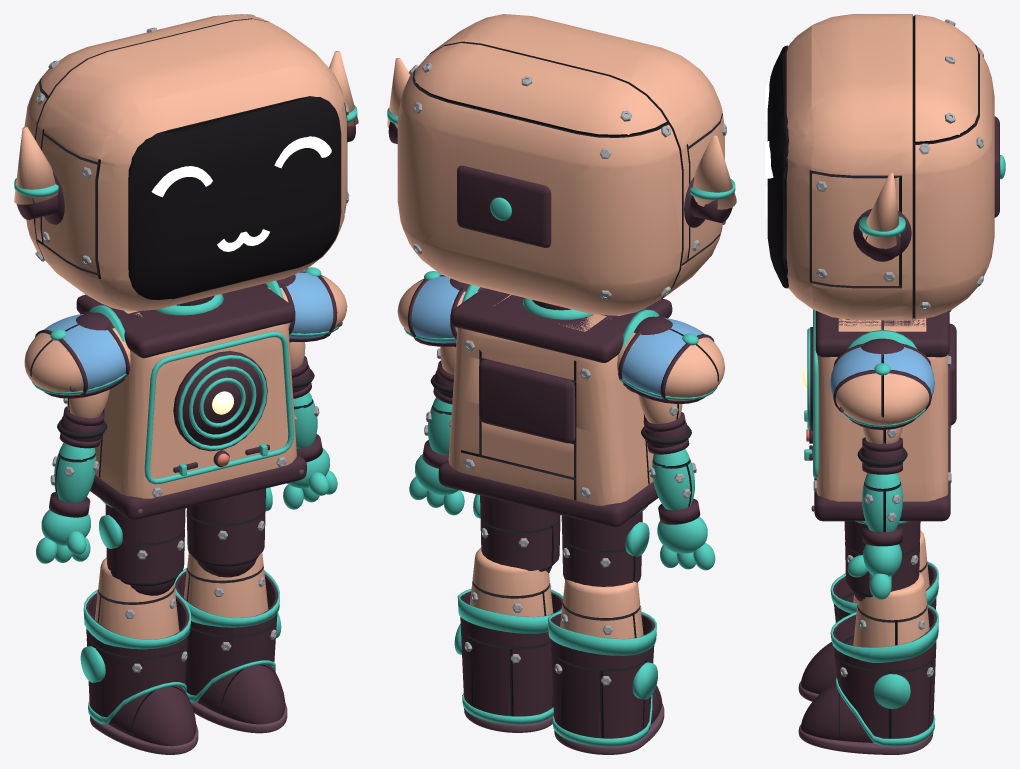
The model's file is peachy.glb.
3 renders of one model, left to right at view 1: azimuth 30°, elevation 25°; view 2: azimuth 150°, elevation 25°; view 3: azimuth 270°, elevation 25°, orthographic.
Visible parts, largest first — view 1: BITTY_Head_surface, BITTY_Torso_surface, BITTY_Ankle0_surface, BITTY_Ankle1_surface, BITTY_Leg0_surface, BITTY_Leg1_surface, BITTY_Elbow0_surface, BITTY_Knee0_surface, BITTY_Knee1_surface, BITTY_Elbow1_surface, BITTY_Arm0_surface, BITTY_Arm1_surface; view 2: BITTY_Head_surface, BITTY_Torso_surface, BITTY_Ankle0_surface, BITTY_Ankle1_surface, BITTY_Elbow0_surface, BITTY_Leg0_surface, BITTY_Leg1_surface, BITTY_Knee0_surface, BITTY_Knee1_surface, BITTY_Elbow1_surface, BITTY_Arm0_surface, BITTY_Arm1_surface; view 3: BITTY_Head_surface, BITTY_Torso_surface, BITTY_Ankle1_surface, BITTY_Elbow1_surface, BITTY_Knee1_surface, BITTY_Ankle0_surface, BITTY_Leg1_surface, BITTY_Arm1_surface, BITTY_Knee0_surface.
Boxes of the visible parts, x1=… form: BITTY_Head_surface: x1=14, y1=14, x2=358, y2=311; BITTY_Torso_surface: x1=24, y1=267, x2=347, y2=520; BITTY_Ankle0_surface: x1=80, y1=589, x2=198, y2=754; BITTY_Ankle1_surface: x1=174, y1=567, x2=287, y2=733; BITTY_Leg0_surface: x1=99, y1=504, x2=185, y2=595; BITTY_Leg1_surface: x1=186, y1=487, x2=272, y2=577; BITTY_Elbow0_surface: x1=36, y1=433, x2=100, y2=563; BITTY_Knee0_surface: x1=95, y1=557, x2=179, y2=639; BITTY_Knee1_surface: x1=184, y1=552, x2=268, y2=617; BITTY_Elbow1_surface: x1=283, y1=382, x2=337, y2=509; BITTY_Arm0_surface: x1=57, y1=389, x2=109, y2=441; BITTY_Arm1_surface: x1=289, y1=341, x2=314, y2=392; BITTY_Head_surface: x1=387, y1=14, x2=736, y2=315; BITTY_Torso_surface: x1=397, y1=271, x2=724, y2=527; BITTY_Ankle0_surface: x1=548, y1=611, x2=664, y2=754; BITTY_Ankle1_surface: x1=454, y1=588, x2=563, y2=732; BITTY_Elbow0_surface: x1=647, y1=439, x2=715, y2=570; BITTY_Leg0_surface: x1=561, y1=511, x2=649, y2=586; BITTY_Leg1_surface: x1=473, y1=494, x2=560, y2=573; BITTY_Knee0_surface: x1=560, y1=579, x2=643, y2=638; BITTY_Knee1_surface: x1=470, y1=547, x2=553, y2=616; BITTY_Elbow1_surface: x1=409, y1=387, x2=464, y2=515; BITTY_Arm0_surface: x1=638, y1=395, x2=691, y2=447; BITTY_Arm1_surface: x1=430, y1=346, x2=455, y2=398; BITTY_Head_surface: x1=765, y1=14, x2=1005, y2=320; BITTY_Torso_surface: x1=802, y1=309, x2=956, y2=524; BITTY_Ankle1_surface: x1=798, y1=604, x2=938, y2=754; BITTY_Elbow1_surface: x1=847, y1=463, x2=902, y2=599; BITTY_Knee1_surface: x1=853, y1=572, x2=929, y2=647; BITTY_Ankle0_surface: x1=798, y1=561, x2=938, y2=701; BITTY_Leg1_surface: x1=844, y1=521, x2=920, y2=601; BITTY_Arm1_surface: x1=857, y1=427, x2=907, y2=467; BITTY_Knee0_surface: x1=853, y1=530, x2=929, y2=603.
Bounding box in the file's own units: 0.8048 × 1.5 × 0.494.
Materials: 4 (4 with a texture image).
